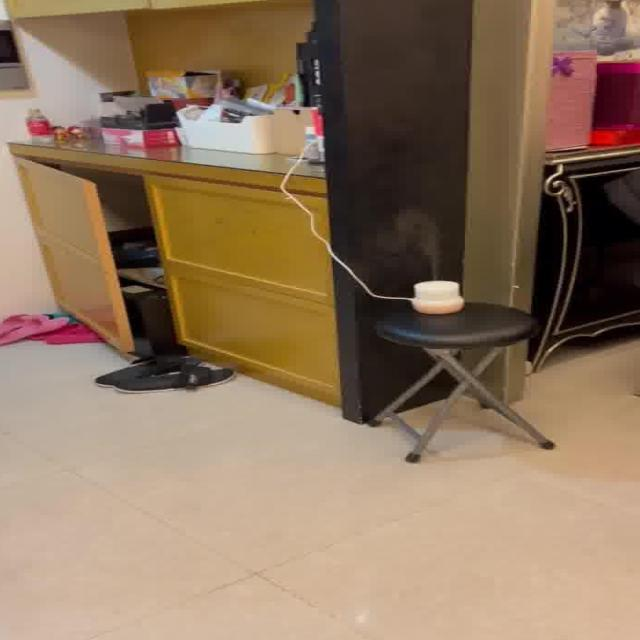fire: (372, 203, 451, 274)
